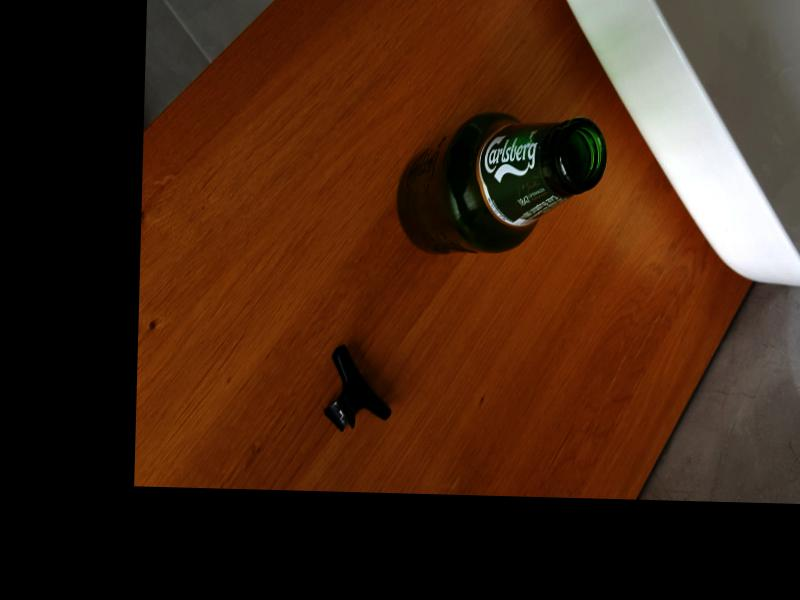Beer: (393, 112, 606, 255)
